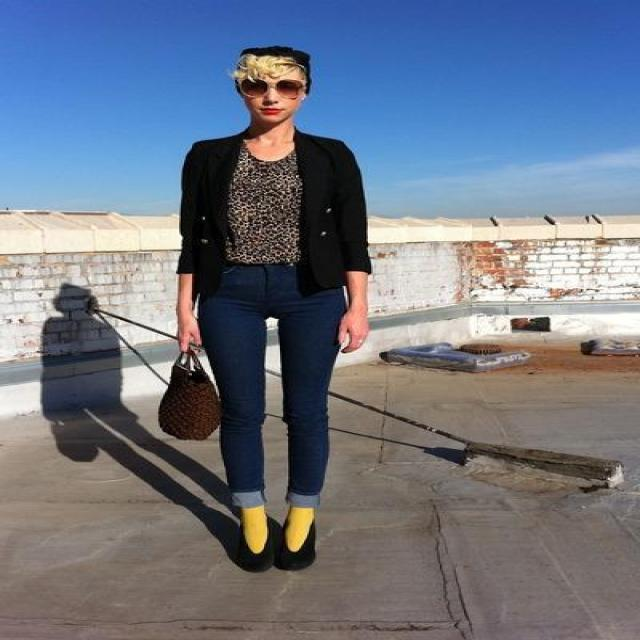bag: (158, 346, 226, 439)
hat: (250, 46, 308, 75)
jacket: (173, 127, 374, 305)
pants: (192, 254, 360, 498)
shirt: (230, 150, 301, 262)
shoe: (222, 512, 314, 572)
sunglass: (236, 67, 310, 114)
